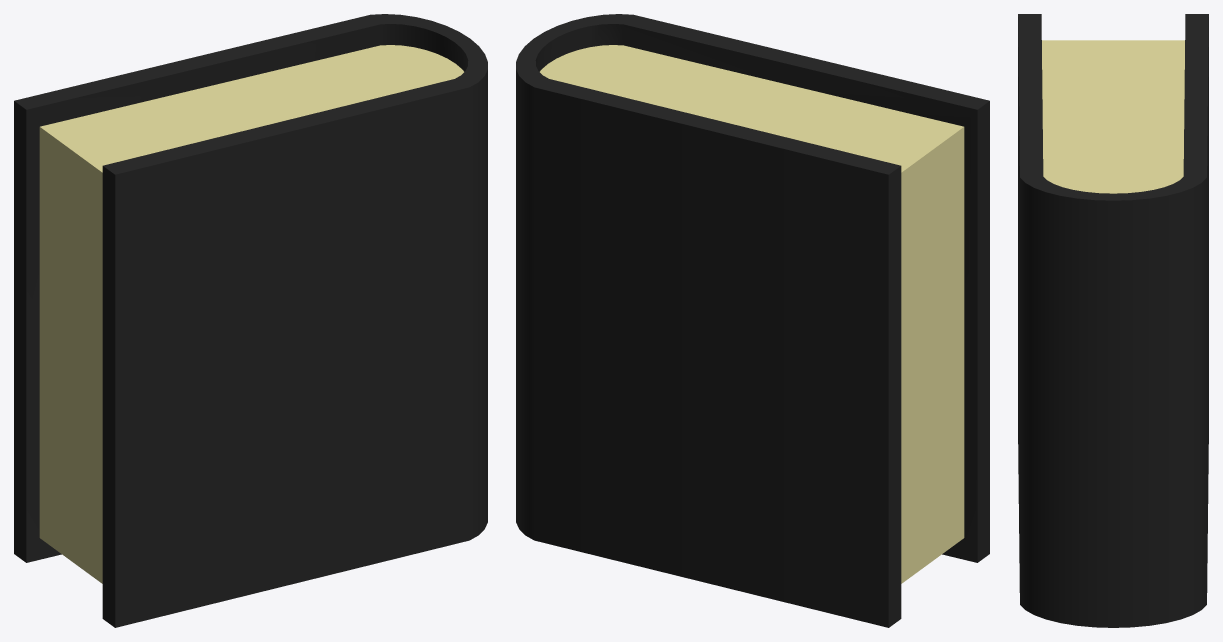
The model's file is book_black.glb.
The picture shows the model from 3 angles, left to right: view 1: azimuth 30°, elevation 25°; view 2: azimuth 150°, elevation 25°; view 3: azimuth 270°, elevation 25°; orthographic projection. The views are drawn at different scales.
Parts seen in each view (by area): view 1: book_black; view 2: book_black; view 3: book_black.
Part boxes in pixels (box(x1,y1,x2,y2)): book_black: box(14, 14, 487, 627); book_black: box(516, 14, 989, 627); book_black: box(1018, 14, 1208, 627).
Size of the model in its own units: 0.5181 by 0.5528 by 0.2236.
